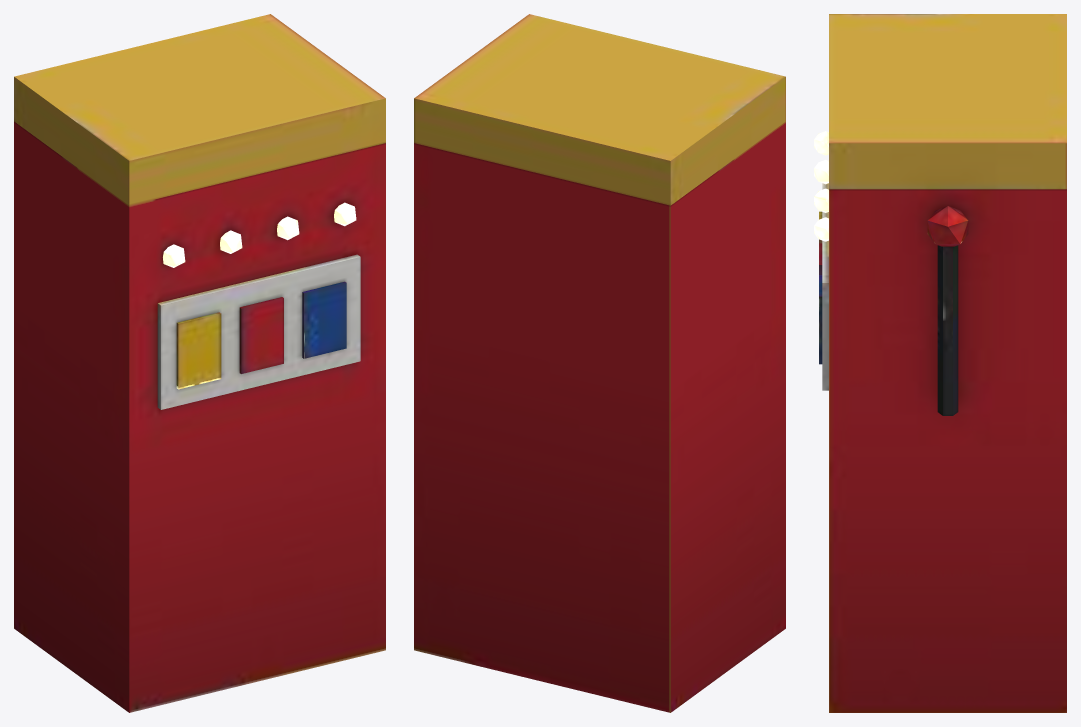
The model's file is tragaperras_acera.glb.
The picture shows the model from 3 angles, left to right: view 1: azimuth 30°, elevation 25°; view 2: azimuth 150°, elevation 25°; view 3: azimuth 270°, elevation 25°; orthographic projection. The views are drawn at different scales.
Parts seen in each view (by area): view 1: tragaperras_acera; view 2: tragaperras_acera; view 3: tragaperras_acera.
Boxes of the visible parts, box(x1,y1,x2,y2) form: tragaperras_acera: box(14, 14, 385, 712); tragaperras_acera: box(414, 14, 785, 712); tragaperras_acera: box(814, 14, 1066, 712).
Size of the model in its own units: 1.01 by 1.85 by 0.744.
Materials: 1 (1 with a texture image).
